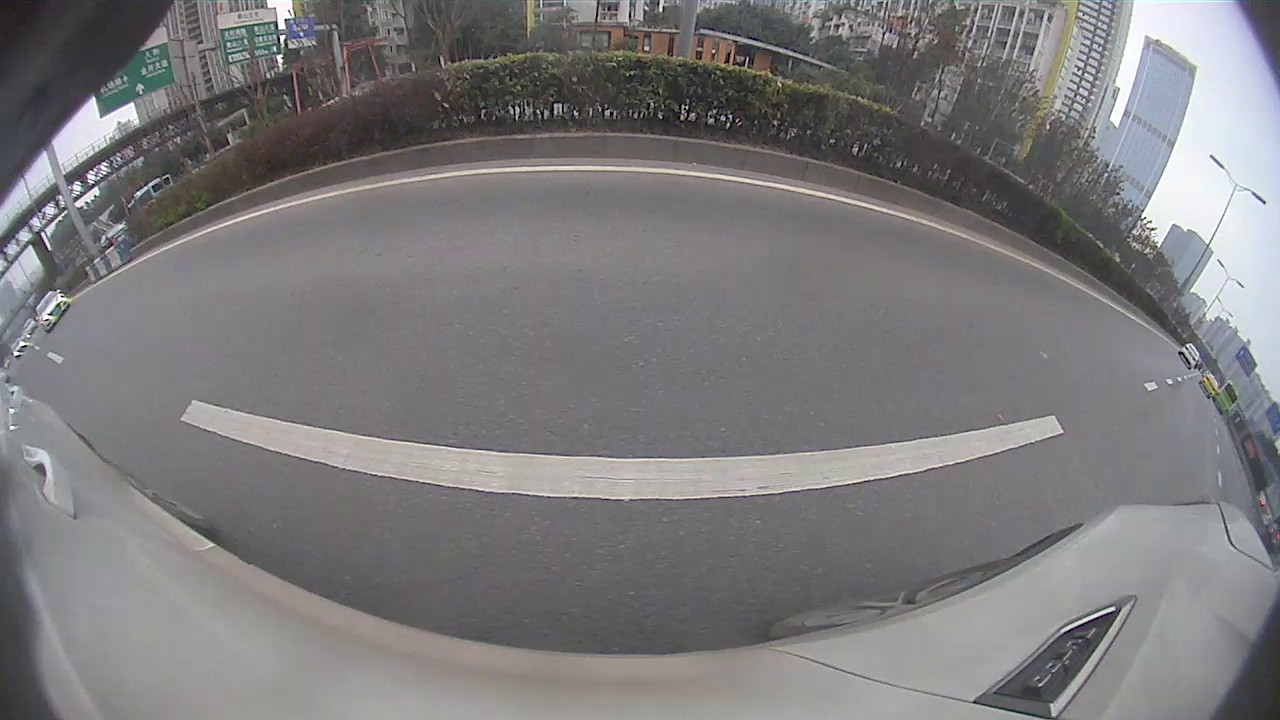car: (32, 287, 73, 335), (1177, 339, 1202, 373), (1193, 375, 1220, 400)
